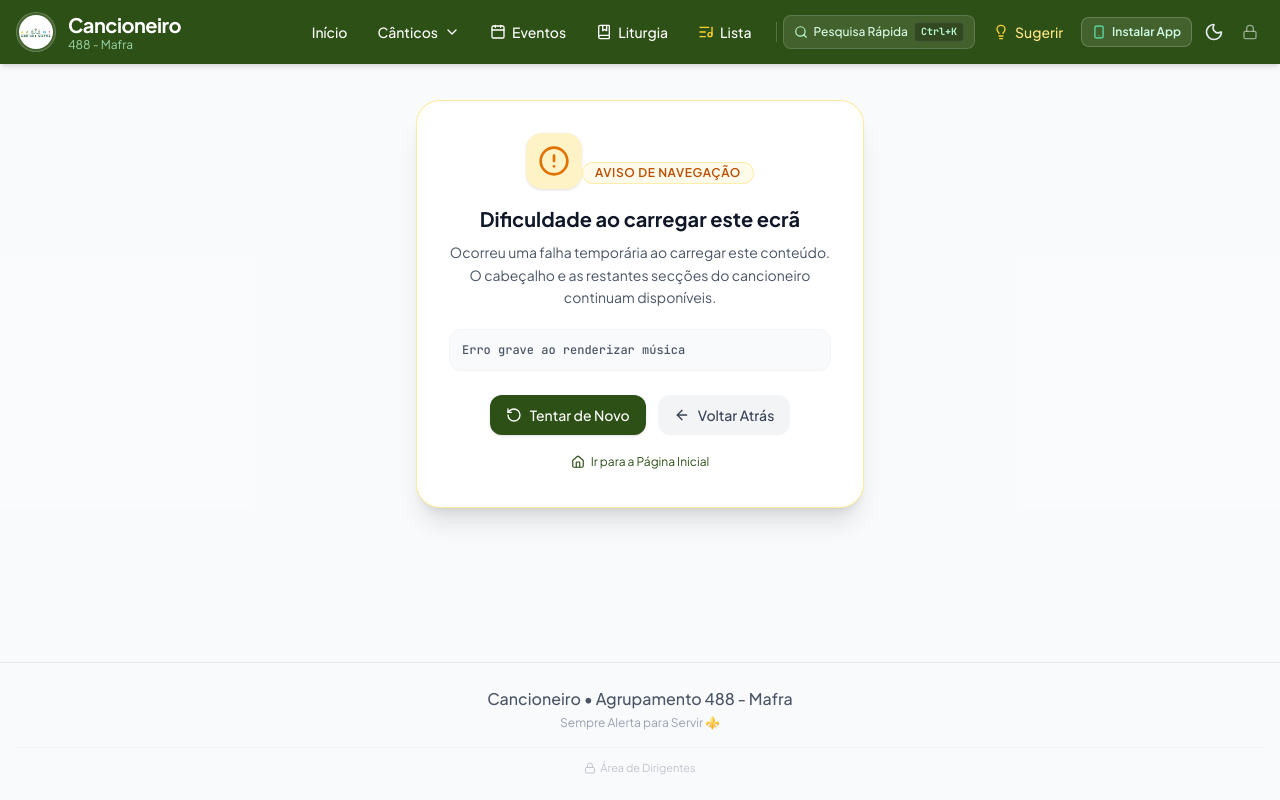
Test: Erros numa página: o resto da app continua a funcionar › catches runtime exception inside child route, keeps Header alive and interactive, and recovers when navigating away
Expected: the text "Aviso de Navegação" is shown, [582,162,754,184]
Expected: the heading "Dificuldade ao carregar este ecrã" is shown, [480,206,800,231]
What coordinates should you click on to do the following:
click the link "Início"
I would click on:
 (330, 32)
Its box is [312,23,347,41].
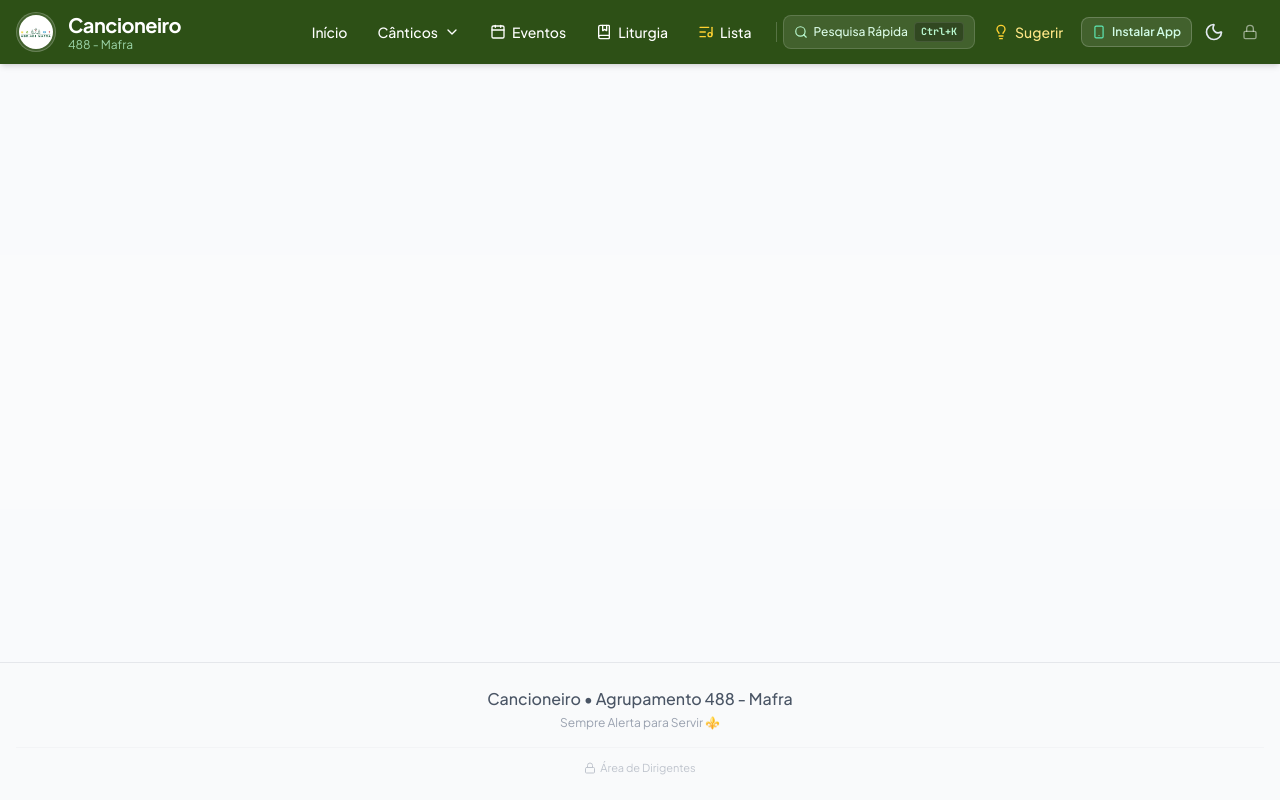
Expected: the text "Aviso de Navegação" is gone
